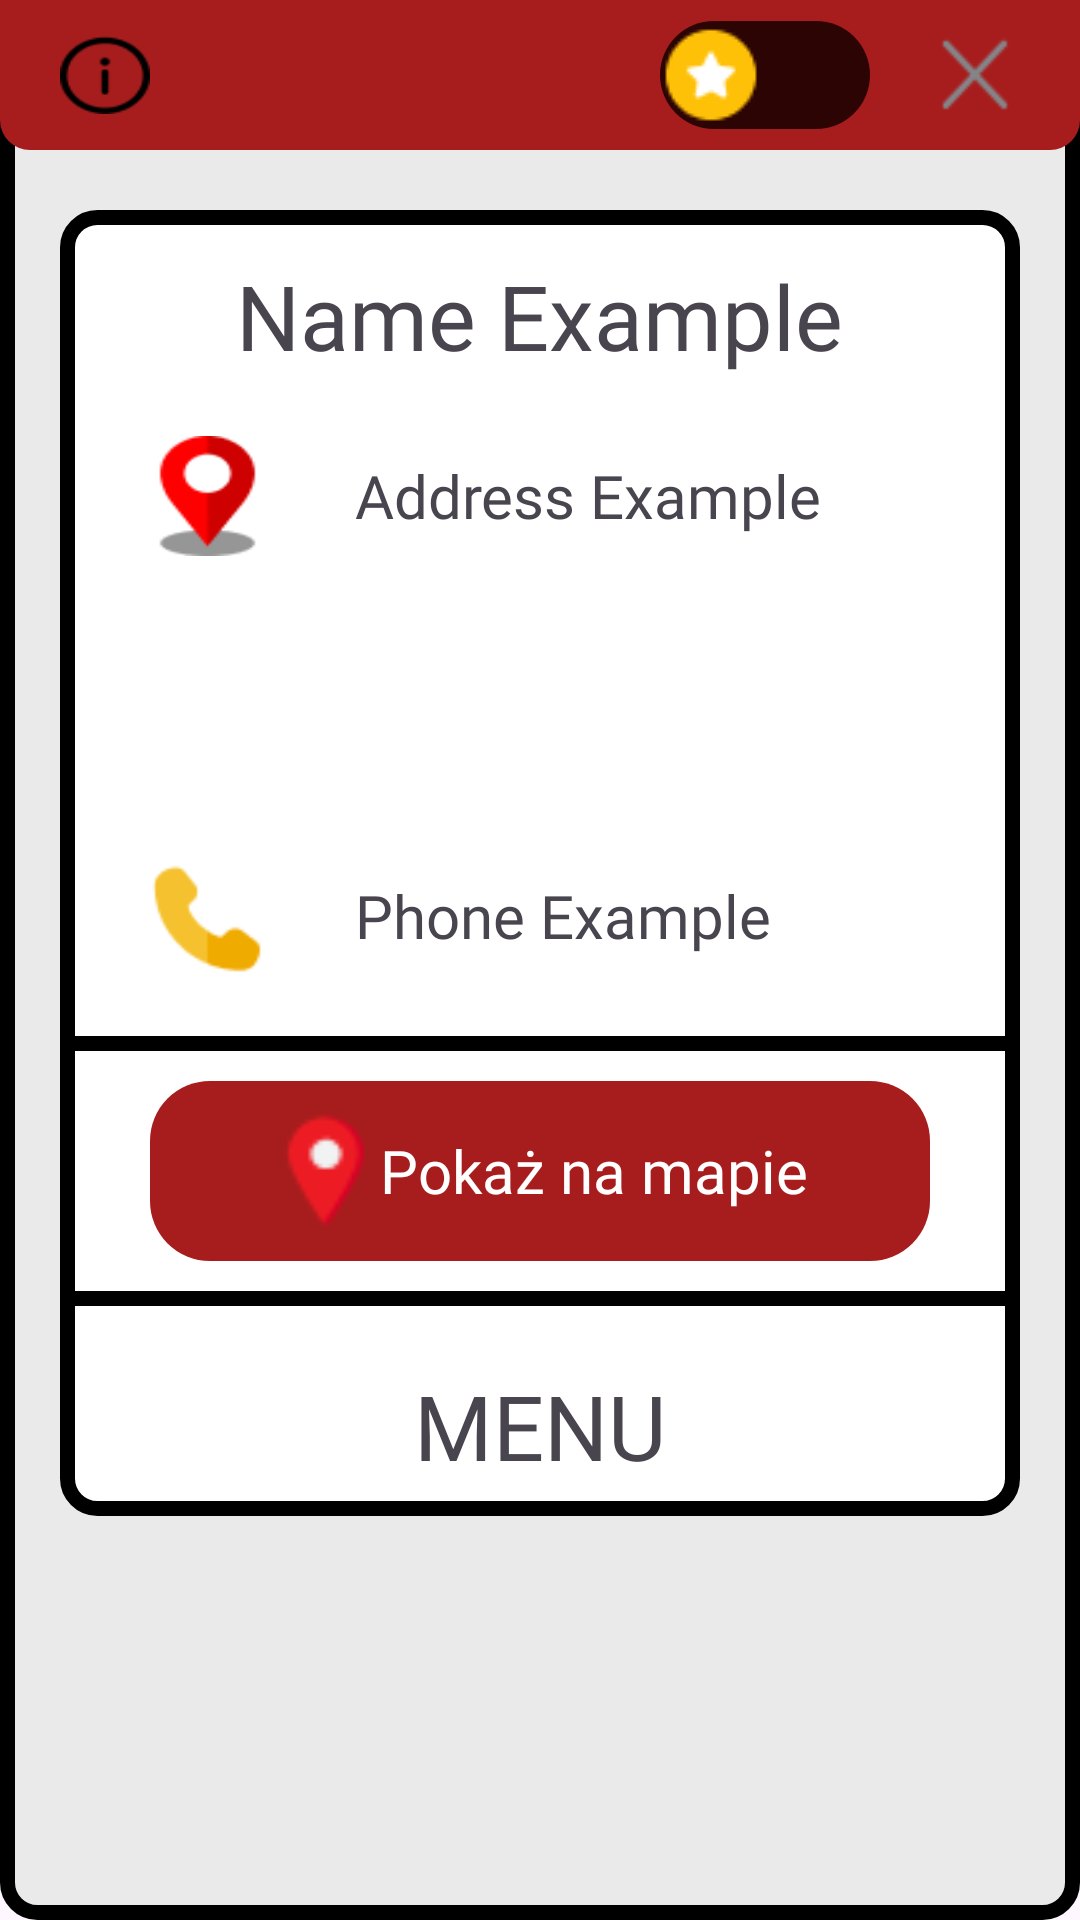

Icons on this 1080*1920 Android screen, each with the point to tap as (x=x, y=y):
close photo: (x=975, y=74)
information photo: (x=105, y=75)
pin photo: (x=207, y=496), (x=325, y=1170)
